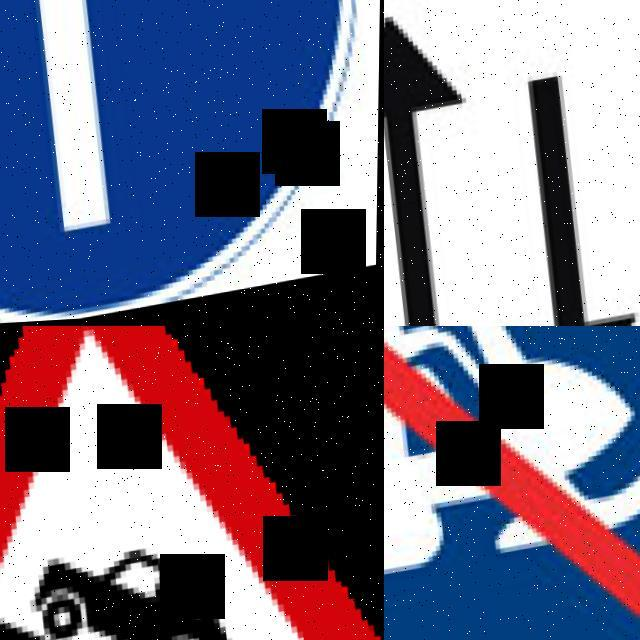112: (384, 326, 640, 640)
66: (384, 0, 640, 326)
Direction to be followed: (0, 0, 384, 326)
Steep ascent: (0, 326, 384, 640)
